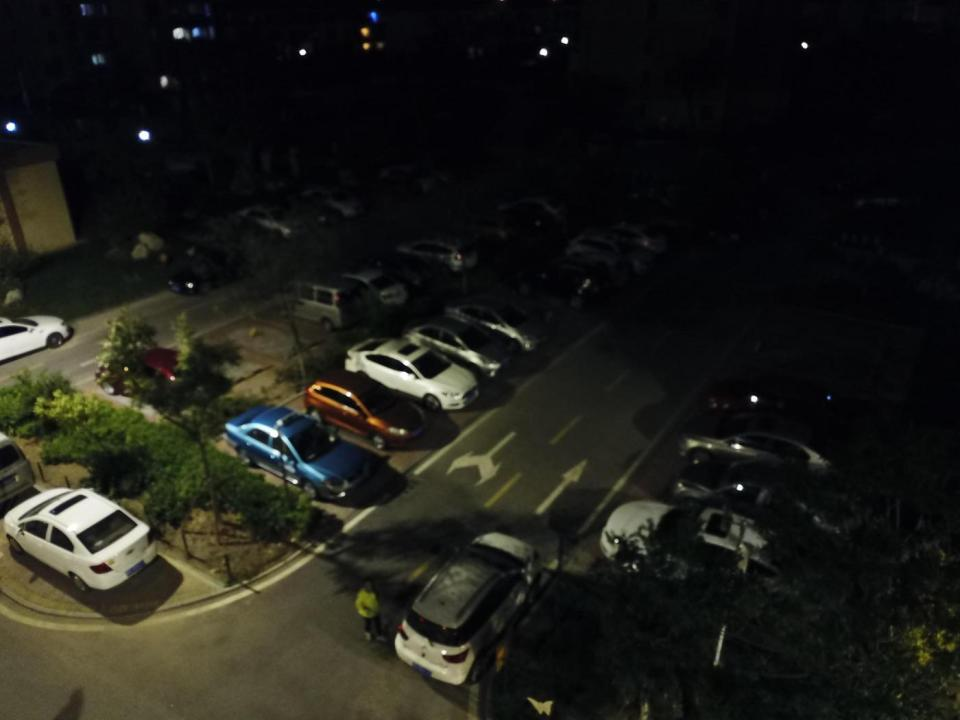car: (600, 498, 830, 609), (394, 530, 542, 688), (671, 458, 866, 546), (3, 486, 158, 595), (224, 403, 371, 501), (677, 414, 845, 484), (344, 335, 480, 412), (304, 371, 427, 449), (703, 376, 850, 430), (401, 316, 516, 380), (446, 296, 549, 353), (95, 346, 203, 398), (511, 254, 609, 308), (166, 248, 253, 294), (564, 230, 654, 273), (0, 312, 71, 364), (398, 233, 478, 272), (340, 268, 409, 308), (237, 204, 307, 241), (598, 222, 669, 255), (380, 161, 446, 192), (302, 185, 367, 216), (375, 256, 431, 288), (499, 198, 567, 224)
van: (276, 278, 364, 331)
